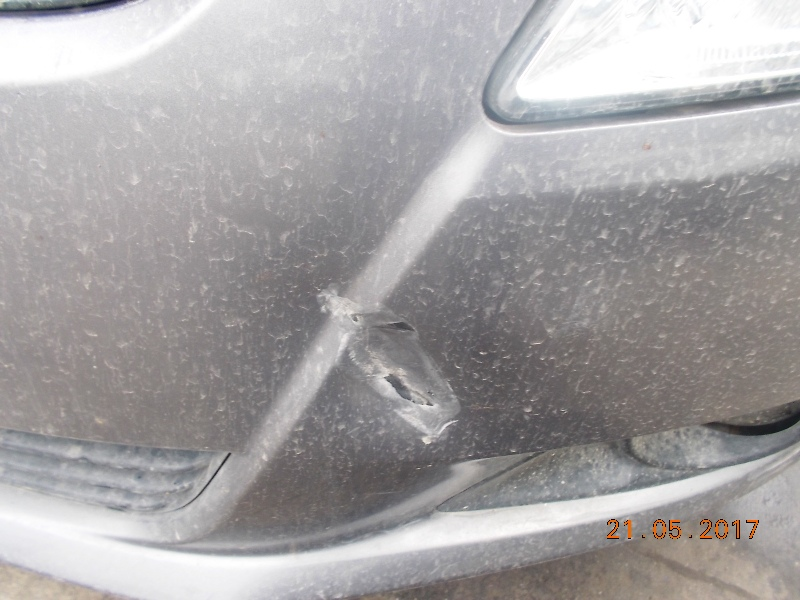Scratch_or_spot: (313, 279, 460, 446)
